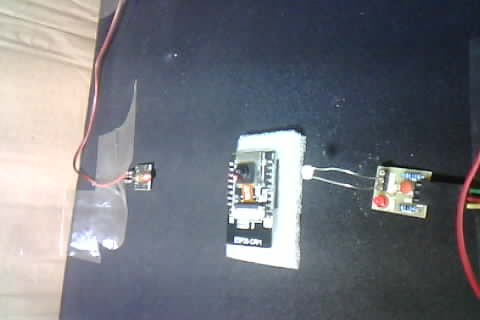esp32: (221, 129, 310, 268)
